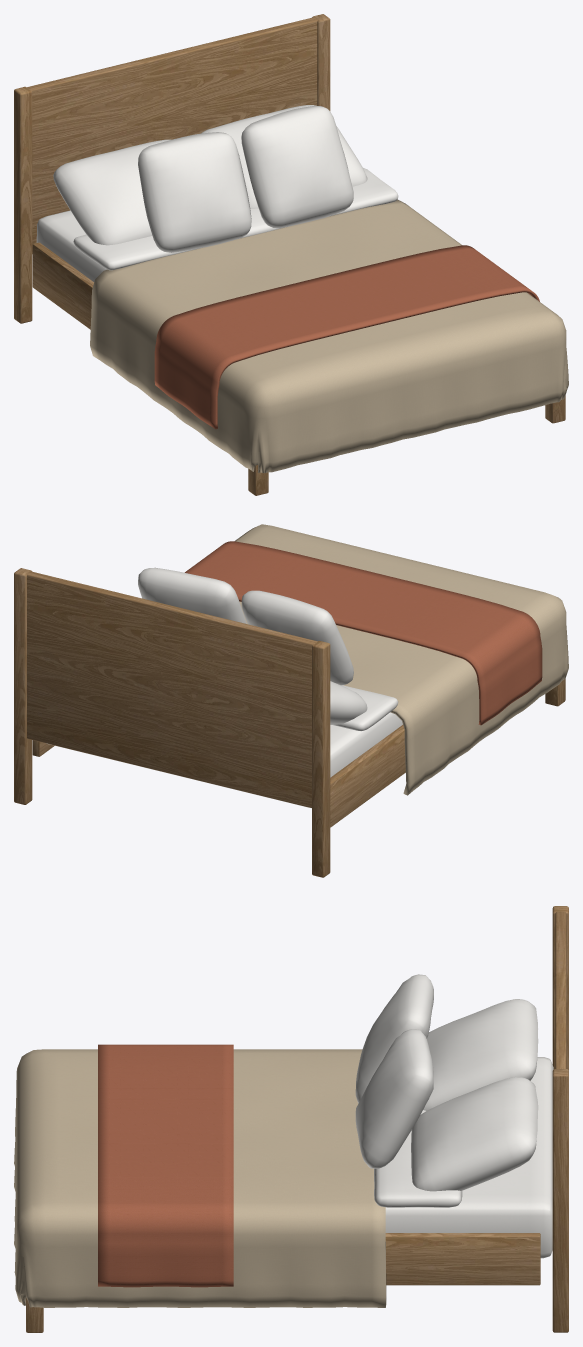
Rendered from cama_madera_135.glb.
3 views of the same model, one above another, from view 1: azimuth 30°, elevation 25°; view 2: azimuth 150°, elevation 25°; view 3: azimuth 270°, elevation 25° (orthographic). The views are drawn at different scales.
Visible parts, largest first — view 1: cama_madera_135; view 2: cama_madera_135; view 3: cama_madera_135.
Part boxes in pixels (x1,y1,x2,y2): cama_madera_135: (14,14,568,495); cama_madera_135: (14,524,568,877); cama_madera_135: (14,906,568,1332).
Size of the model in its own units: 1.57 by 1.05 by 2.04.
Materials: 4 (4 with a texture image).
